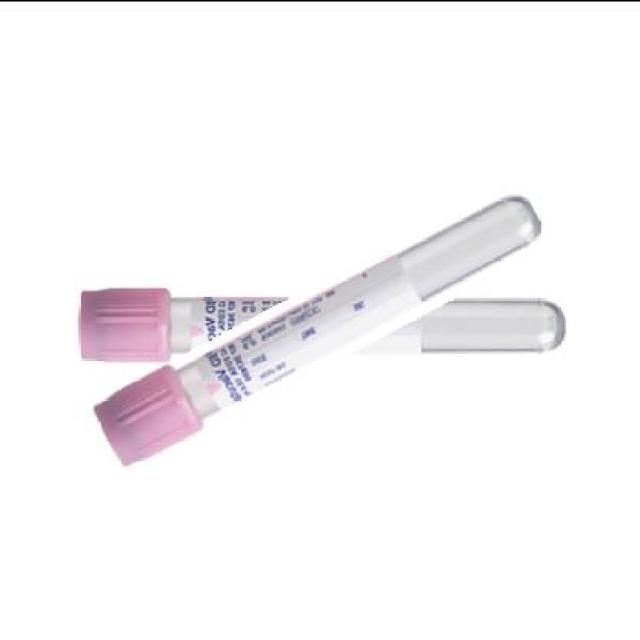Experimental-tube: (80, 231, 558, 418)
